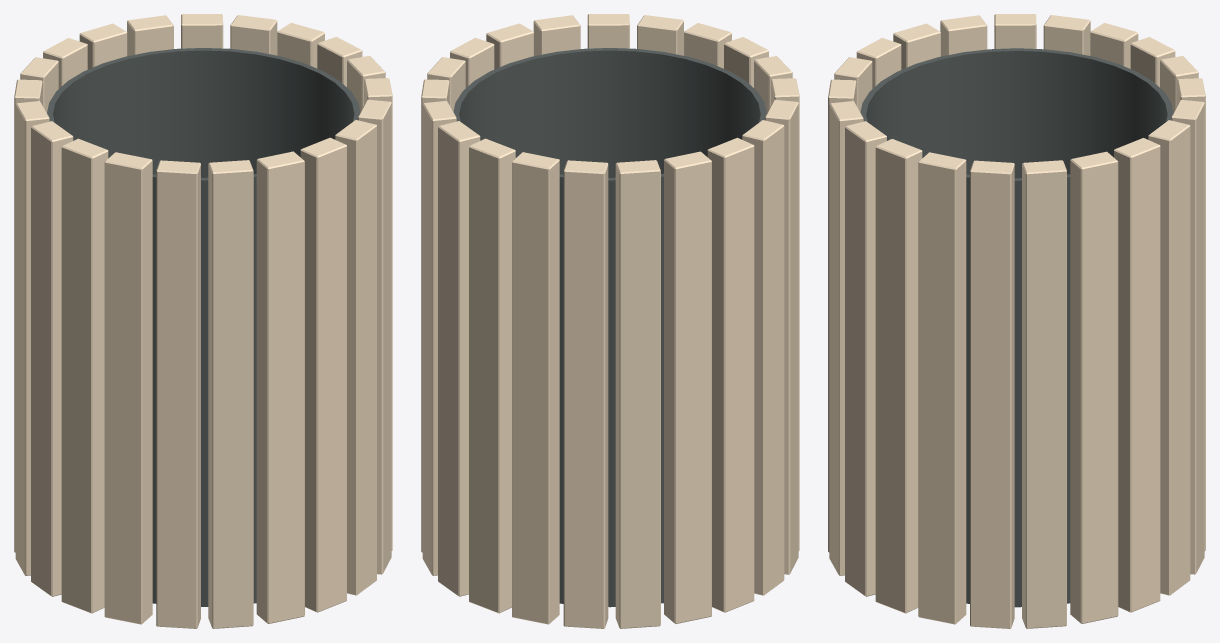
Rendered from bin.fbx.
3 views of the same model, side by side, from view 1: azimuth 30°, elevation 25°; view 2: azimuth 150°, elevation 25°; view 3: azimuth 270°, elevation 25° (orthographic).
Visible parts, largest first — view 1: City_Bin_2; view 2: City_Bin_2; view 3: City_Bin_2.
Part boxes in pixels (x1,y1,x2,y2): City_Bin_2: (14,14,392,628); City_Bin_2: (421,14,799,628); City_Bin_2: (828,14,1205,628).
Size of the model in its own units: 60.19 by 80.2 by 60.19.
